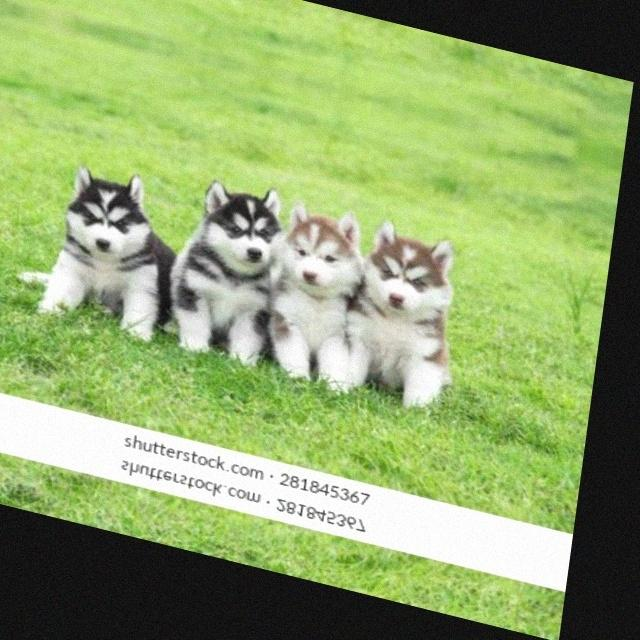dog: (18, 118, 203, 358), (145, 148, 314, 391)
